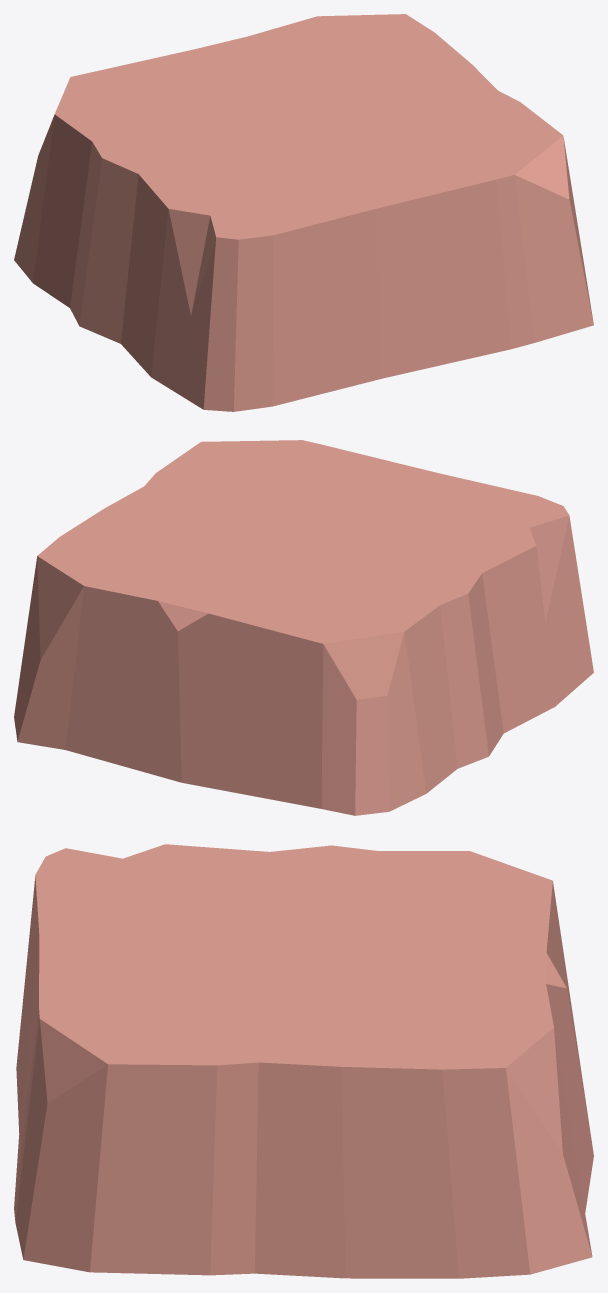
Rendered from SuperGrid_Cube1.fbx.
The picture shows the model from 3 angles, top to bottom: view 1: azimuth 30°, elevation 25°; view 2: azimuth 150°, elevation 25°; view 3: azimuth 270°, elevation 25°; orthographic projection. The views are drawn at different scales.
Visible parts, largest first — view 1: SuperGrid_Cube1; view 2: SuperGrid_Cube1; view 3: SuperGrid_Cube1.
Part boxes in pixels (x1,y1,x2,y2): SuperGrid_Cube1: (14,14,593,411); SuperGrid_Cube1: (14,440,593,815); SuperGrid_Cube1: (14,844,593,1278).
Size of the model in its own units: 256 by 95.45 by 253.
